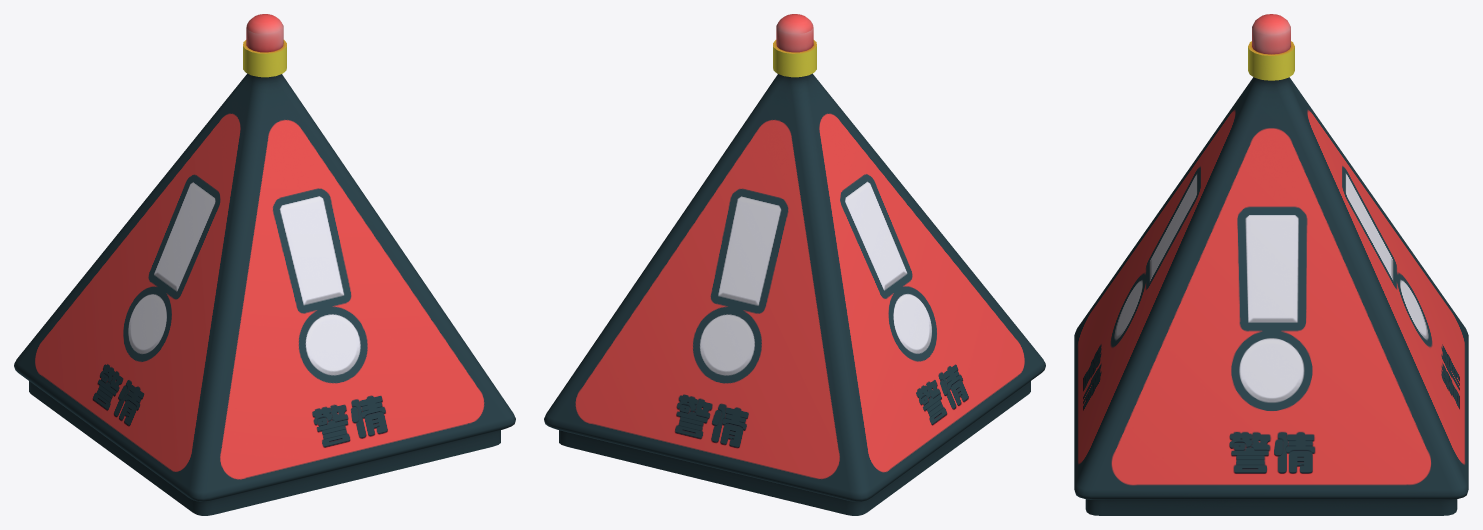
Rendered from JingQingYuanSu.093002a.glb.
3 renders of one model, left to right at view 1: azimuth 30°, elevation 25°; view 2: azimuth 150°, elevation 25°; view 3: azimuth 270°, elevation 25°, orthographic. The views are drawn at different scales.
Parts seen in each view (by area): view 1: 警情元素; view 2: 警情元素; view 3: 警情元素.
Part boxes in pixels (x1,y1,x2,y2): 警情元素: (14, 14, 515, 515); 警情元素: (544, 14, 1045, 515); 警情元素: (1074, 14, 1468, 515).
Size of the model in its own units: 0.9766 by 1.15 by 0.9766.
Materials: 1 (1 with a texture image).
